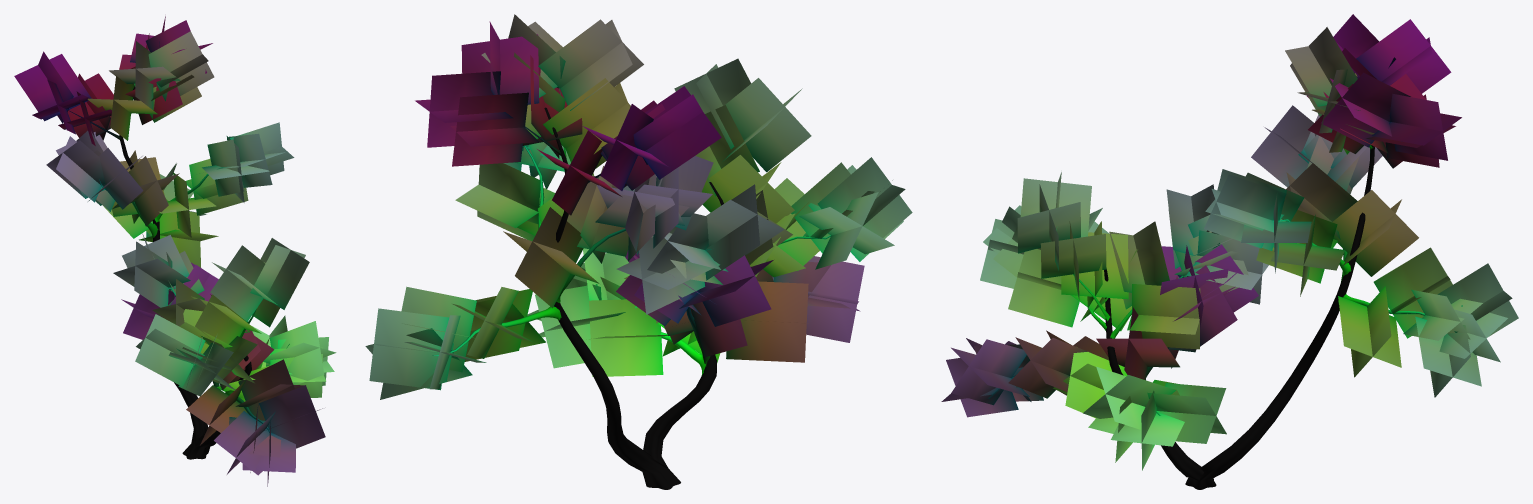
Rendered from URP_P3_Tree_7_LOD_0.fbx.
3 views of the same model, side by side, from view 1: azimuth 30°, elevation 25°; view 2: azimuth 150°, elevation 25°; view 3: azimuth 270°, elevation 25° (orthographic). The views are drawn at different scales.
Parts seen in each view (by area): view 1: Tree_7_LOD_0; view 2: Tree_7_LOD_0; view 3: Tree_7_LOD_0.
Part boxes in pixels (<box>): Tree_7_LOD_0: <box>14,16,336,486</box>; Tree_7_LOD_0: <box>365,14,912,489</box>; Tree_7_LOD_0: <box>941,14,1518,489</box>.
Bounding box in the file's own units: 529 × 813 × 943.
